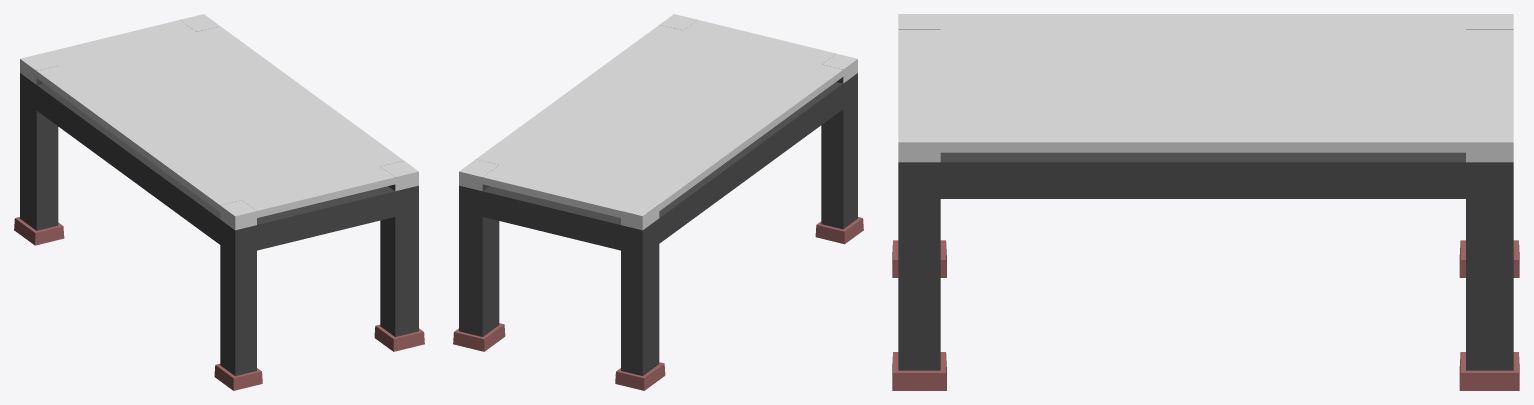
File: Desk.fbx
3 renders of one model, left to right at view 1: azimuth 30°, elevation 25°; view 2: azimuth 150°, elevation 25°; view 3: azimuth 270°, elevation 25°, orthographic. The views are drawn at different scales.
Visible parts, largest first — view 1: Desk; view 2: Desk; view 3: Desk.
Part boxes in pixels (x1=…): Desk: x1=14, y1=14, x2=424, y2=390; Desk: x1=453, y1=14, x2=863, y2=390; Desk: x1=892, y1=14, x2=1519, y2=390.
Size of the model in its own units: 117 by 100 by 232.
